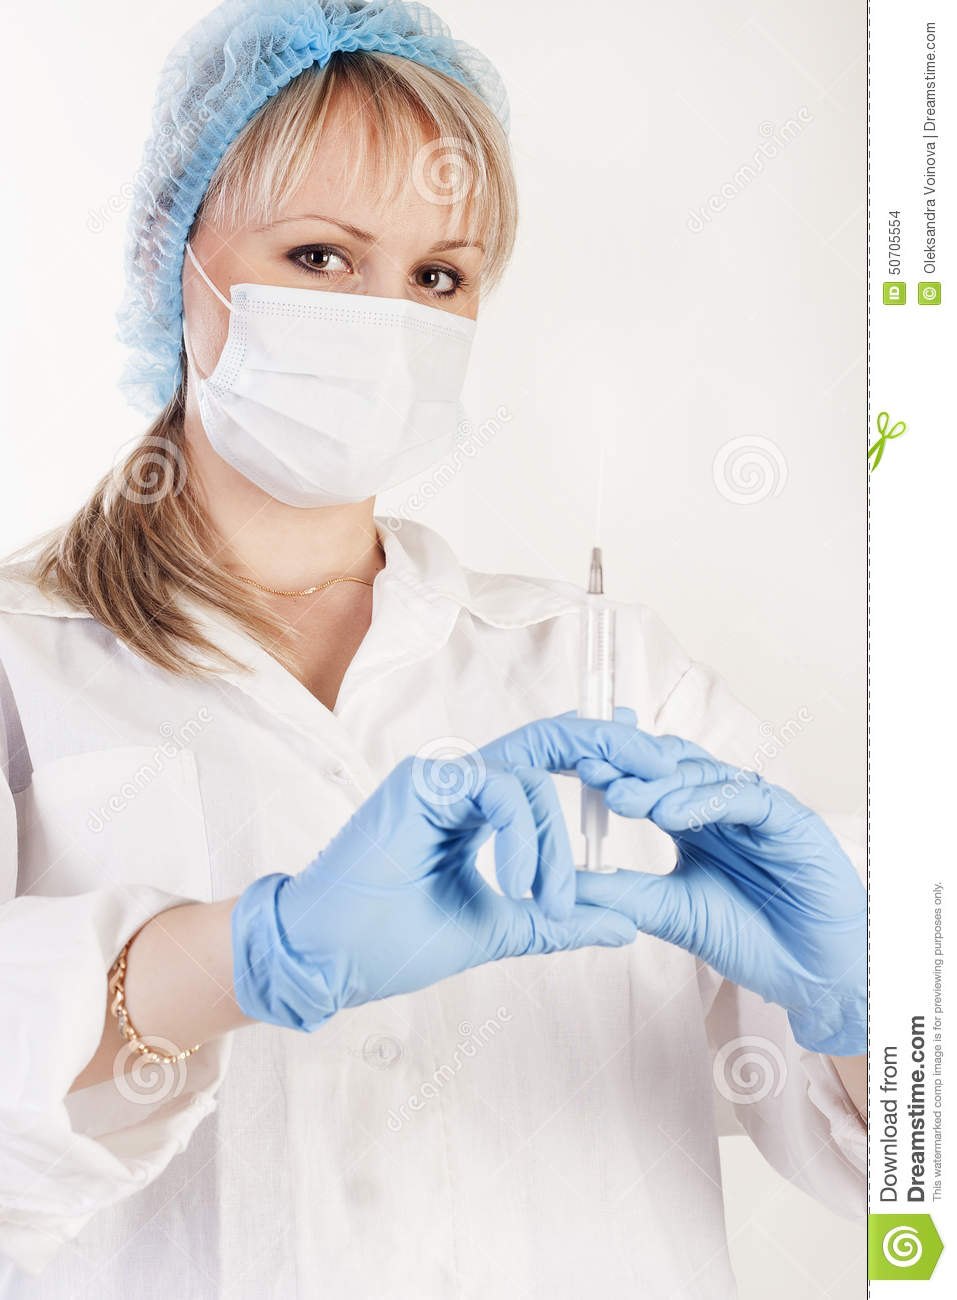mask: (188, 295, 500, 503)
